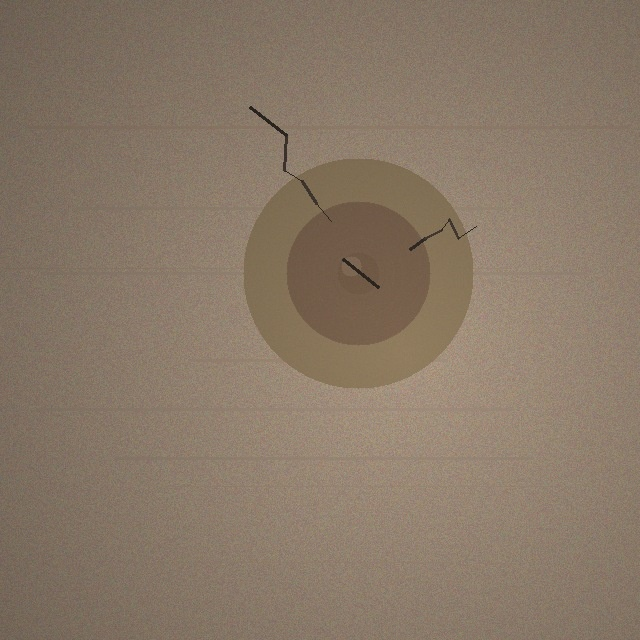crack: (243, 158, 473, 388)
